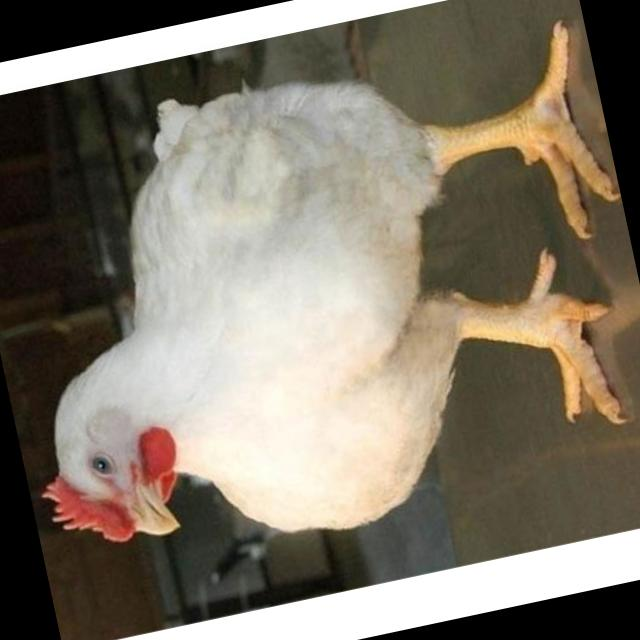Healthy: (0, 13, 640, 589)
